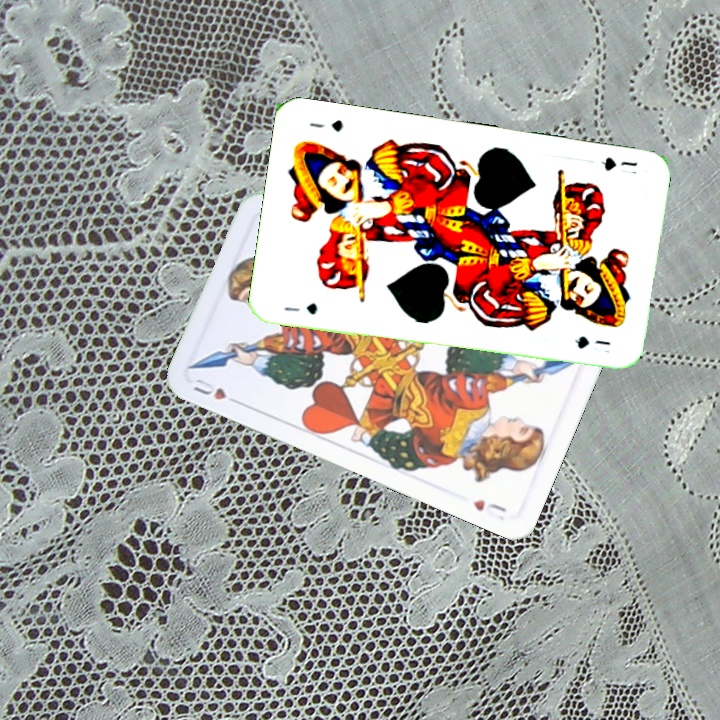GU: (597, 153, 640, 177), (280, 299, 320, 318)
HU: (189, 374, 244, 408)
